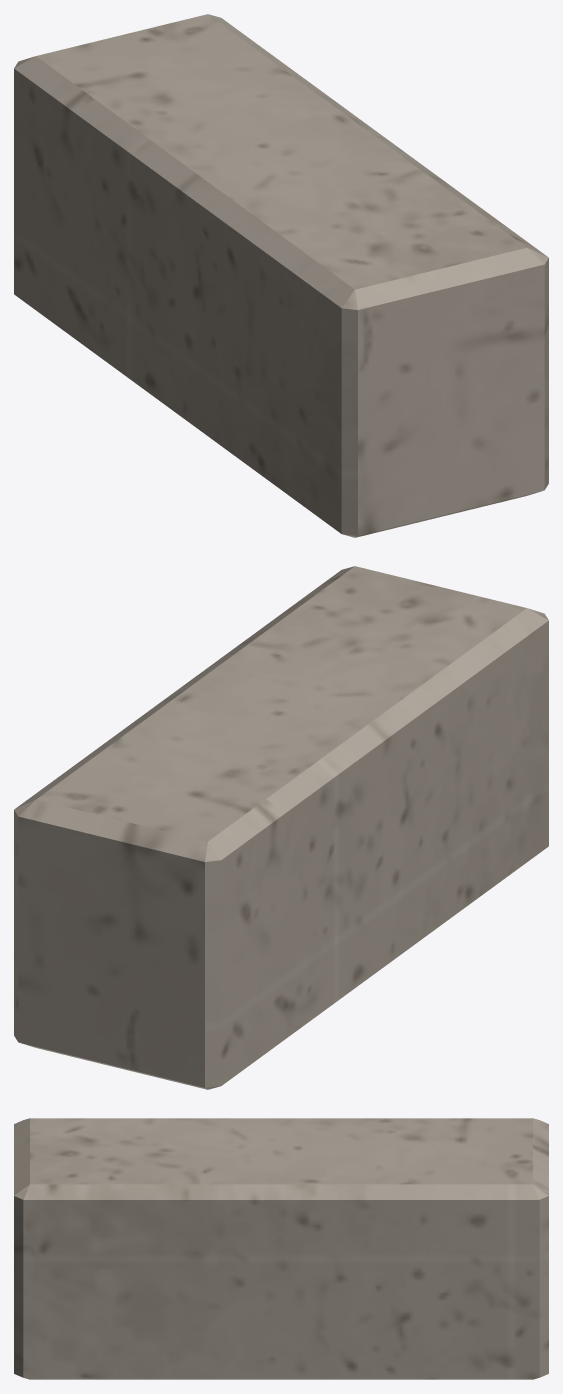
File: MeshDoorwayDoor_2_2_GeomSubset_1.obj
3 renders of one model, top to bottom at view 1: azimuth 30°, elevation 25°; view 2: azimuth 150°, elevation 25°; view 3: azimuth 270°, elevation 25°, orthographic. The views are drawn at different scales.
Parts seen in each view (by area): view 1: MeshDoorwayDoor_2_2_GeomSubset_1; view 2: MeshDoorwayDoor_2_2_GeomSubset_1; view 3: MeshDoorwayDoor_2_2_GeomSubset_1.
Boxes of the visible parts, x1=… form: MeshDoorwayDoor_2_2_GeomSubset_1: x1=14, y1=14, x2=548, y2=537; MeshDoorwayDoor_2_2_GeomSubset_1: x1=14, y1=566, x2=548, y2=1089; MeshDoorwayDoor_2_2_GeomSubset_1: x1=14, y1=1118, x2=548, y2=1379.
Size of the model in its own units: 0.06 by 0.0686 by 0.17.
Materials: 1 (1 with a texture image).
